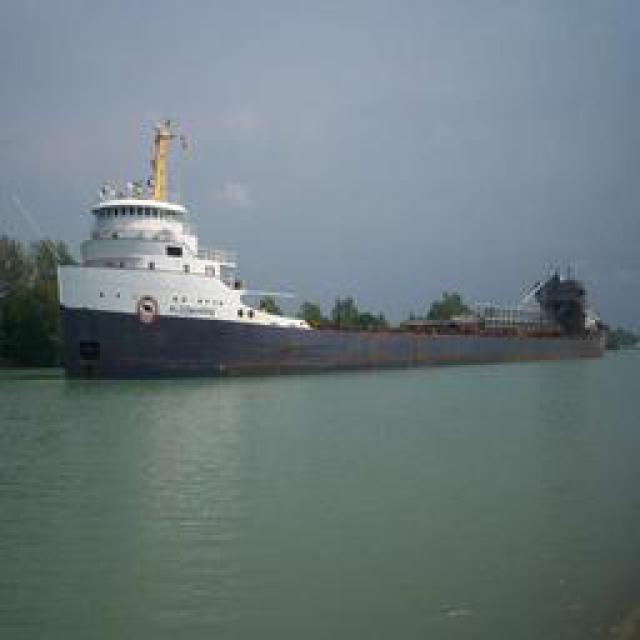Ship: (57, 115, 619, 378)
